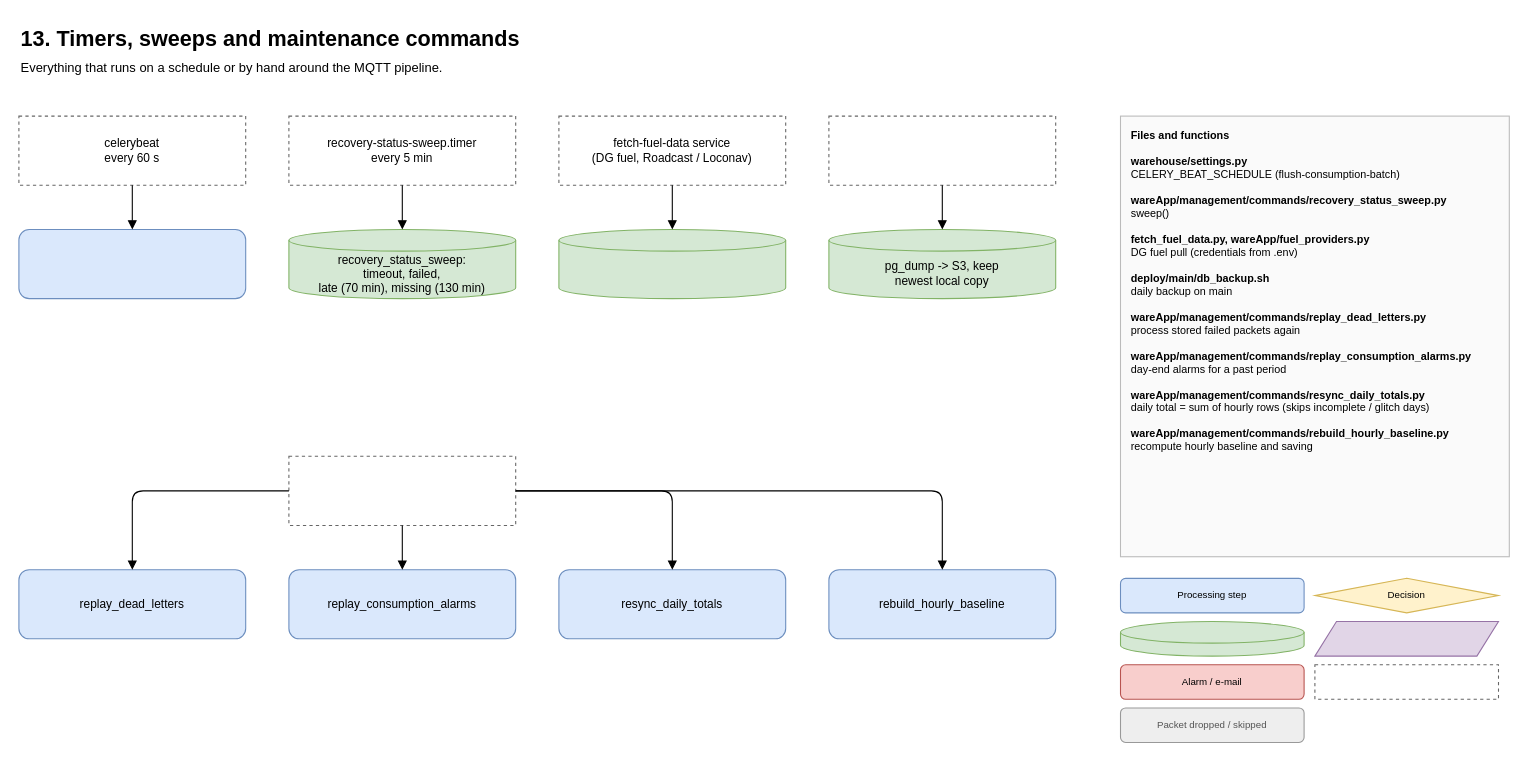
Some shapes in this 1528 by 761 pixel diagram are drawn without their labels. Each missing label, with the centre of its shape:
"Database table" goes at (1211,638).
"DgFuelConsumptionData, DgUnitConsumption" goes at (672,263).
"External: gateway, broker, timer" goes at (1406,681).
"flush_consumption_batch (flow 2)" goes at (132,263).
"main: cron 07:40 UTC db_backup.sh" goes at (942,150).
"manual commands" goes at (402,490).
"RabbitMQ queue / MQTT topic" goes at (1406,638).
